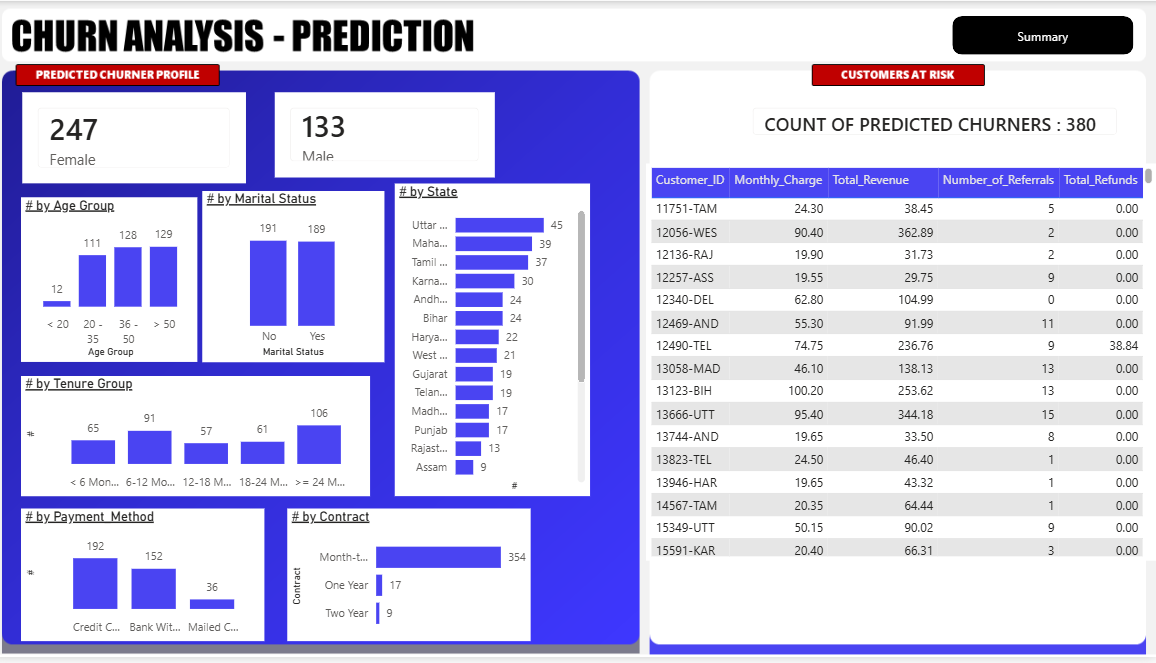

The dashboard page shown, as its layout file describes it:
{"tool":"powerbi","page":{"name":"Churn Prediction","canvas":[1280,720],"ordinal":2},"visuals":[{"type":"tableEx","fields":{"Values":["Predictions.Customer_ID","Predictions.Monthly_Charge","Predictions.Total_Revenue","Predictions.Number_of_Referrals","Predictions.Total_Refunds"]},"box":[719,178.4,561.2,436.4],"z":0},{"type":"cardVisual","fields":{"Data":["tbl_Measures.Title Predicted Churners"]},"box":[819.2,100.2,435,64.5],"z":1000},{"type":"cardVisual","fields":{"Data":["tbl_Measures.Count Predicted Churner"]},"box":[34.3,100.2,245.6,100.2],"z":2000},{"type":"cardVisual","fields":{"Data":["tbl_Measures.Count Predicted Churner"]},"box":[311.5,100.2,241.5,93.3],"z":3000},{"type":"clusteredColumnChart","fields":{"Category":["mapping_AgeGrp.Age Group"],"Y":["CountNonNull(Predictions.Customer_ID)"]},"box":[32.9,215.4,193.5,181.1],"z":4000},{"type":"clusteredColumnChart","fields":{"Y":["CountNonNull(Predictions.Customer_ID)"],"Category":["Predictions.Married"]},"box":[231.9,208.6,200.3,188],"z":5000},{"type":"clusteredColumnChart","fields":{"Y":["CountNonNull(Predictions.Customer_ID)"],"Category":["mapping_TenureGrp.Tenure Group"]},"box":[32.9,411.7,382.8,131.7],"z":6000},{"type":"clusteredColumnChart","fields":{"Y":["CountNonNull(Predictions.Customer_ID)"],"Category":["Predictions.Payment_Method"]},"box":[32.9,557.1,267.6,145.5],"z":7000},{"type":"clusteredBarChart","fields":{"Category":["Predictions.Contract"],"Y":["CountNonNull(Predictions.Customer_ID)"]},"box":[325.2,557.1,267.6,145.5],"z":8000},{"type":"clusteredBarChart","fields":{"Category":["Predictions.State"],"Y":["CountNonNull(Predictions.Customer_ID)"]},"box":[443.2,200.3,214.1,343.1],"z":9000},{"type":"shape","box":[1055.2,16.5,199,42.5],"z":10000}]}

Visuals, with their boxes in screenshot pixels (x1, y1, x2, y2), scaled from the page's 1280x720 canvas onto the 1156x663 screenshot:
tableEx - Predictions.Customer_ID x Predictions.Monthly_Charge: bbox=[649, 164, 1155, 566]
cardVisual - tbl_Measures.Title Predicted Churners: bbox=[740, 92, 1133, 152]
cardVisual - tbl_Measures.Count Predicted Churner: bbox=[31, 92, 253, 185]
cardVisual - tbl_Measures.Count Predicted Churner: bbox=[281, 92, 499, 178]
clusteredColumnChart - mapping_AgeGrp.Age Group x CountNonNull(Predictions.Customer_ID): bbox=[30, 198, 204, 365]
clusteredColumnChart - CountNonNull(Predictions.Customer_ID) x Predictions.Married: bbox=[209, 192, 390, 365]
clusteredColumnChart - CountNonNull(Predictions.Customer_ID) x mapping_TenureGrp.Tenure Group: bbox=[30, 379, 375, 500]
clusteredColumnChart - CountNonNull(Predictions.Customer_ID) x Predictions.Payment_Method: bbox=[30, 513, 271, 647]
clusteredBarChart - Predictions.Contract x CountNonNull(Predictions.Customer_ID): bbox=[294, 513, 535, 647]
clusteredBarChart - Predictions.State x CountNonNull(Predictions.Customer_ID): bbox=[400, 184, 594, 500]
shape: bbox=[953, 15, 1133, 54]
